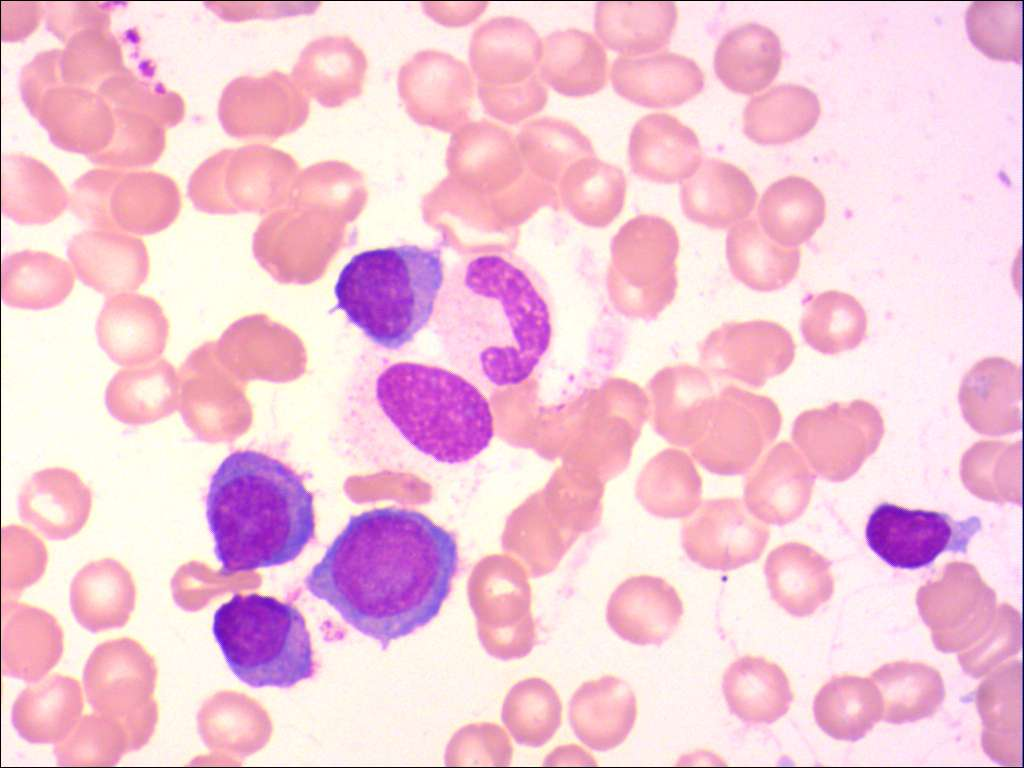32: (863, 498, 984, 579)
5: (426, 240, 560, 395)
51: (300, 501, 463, 654), (201, 446, 321, 580), (323, 239, 449, 355), (209, 589, 321, 693)
x: (335, 344, 498, 499)
